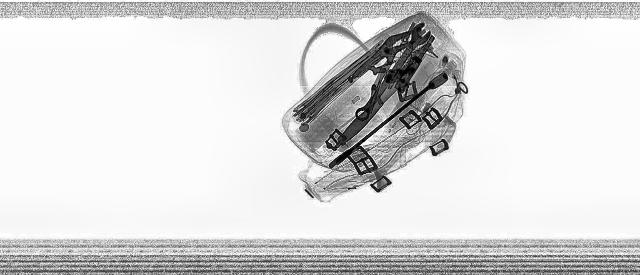Gun: (376, 34, 446, 90)
Knife: (330, 42, 438, 144)
Wrench: (342, 21, 446, 121)
